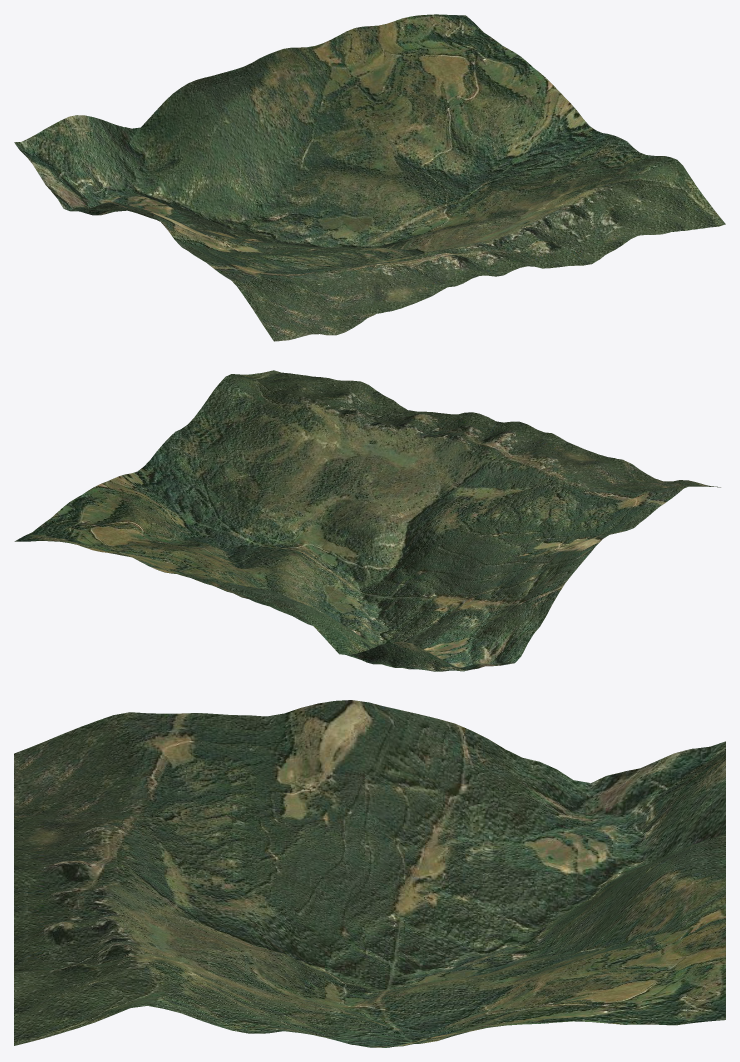
Rendered from Landscape.fbx.
3 renders of one model, top to bottom at view 1: azimuth 30°, elevation 25°; view 2: azimuth 150°, elevation 25°; view 3: azimuth 270°, elevation 25°, orthographic. The views are drawn at different scales.
Parts seen in each view (by area): view 1: Google_Earth_Terrain; view 2: Google_Earth_Terrain; view 3: Google_Earth_Terrain.
Boxes of the visible parts, bbox=[...] form: Google_Earth_Terrain: bbox=[14, 14, 725, 341]; Google_Earth_Terrain: bbox=[14, 370, 720, 671]; Google_Earth_Terrain: bbox=[14, 700, 725, 1047].
Bounding box in the file's own units: 2009 × 437 × 2000.
1 material, 1 textured.
